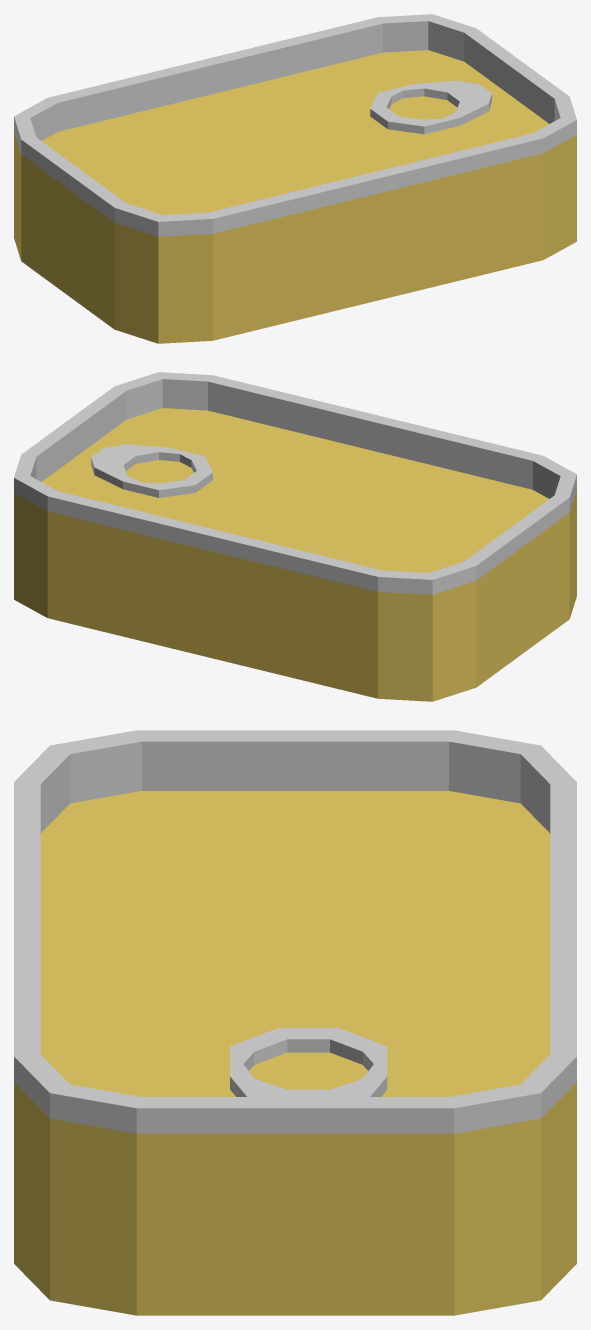
File: Ma_Canned_Small_2.fbx
3 renders of one model, top to bottom at view 1: azimuth 30°, elevation 25°; view 2: azimuth 150°, elevation 25°; view 3: azimuth 270°, elevation 25°, orthographic. The views are drawn at different scales.
Parts seen in each view (by area): view 1: Ma_Canned_Small_2; view 2: Ma_Canned_Small_2; view 3: Ma_Canned_Small_2.
Part boxes in pixels (x1,y1,x2,y2): Ma_Canned_Small_2: (14,14,576,343); Ma_Canned_Small_2: (14,372,576,701); Ma_Canned_Small_2: (14,730,576,1315).
Size of the model in its own units: 101 by 63.68 by 25.88.
